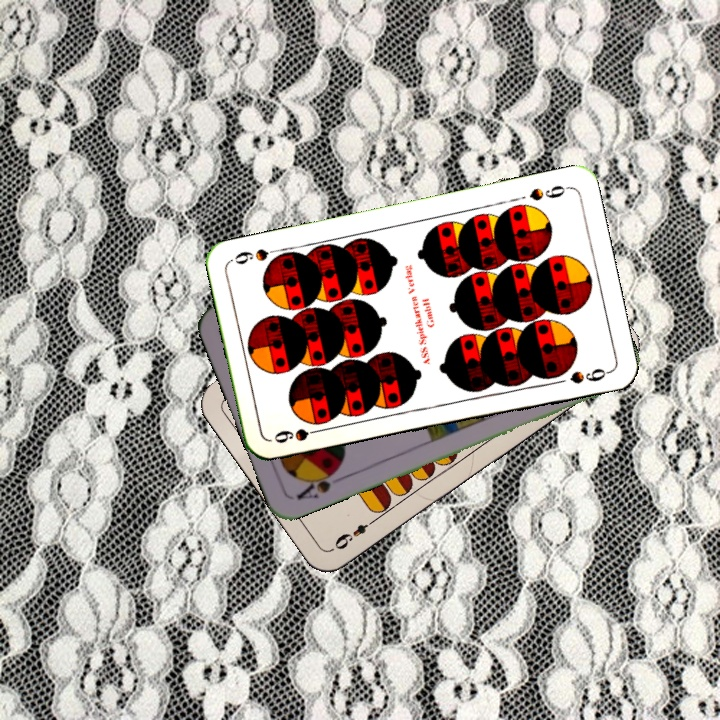E9: (330, 513, 380, 553)
S9: (270, 424, 328, 446), (525, 181, 572, 203)
SA: (292, 463, 347, 502)
